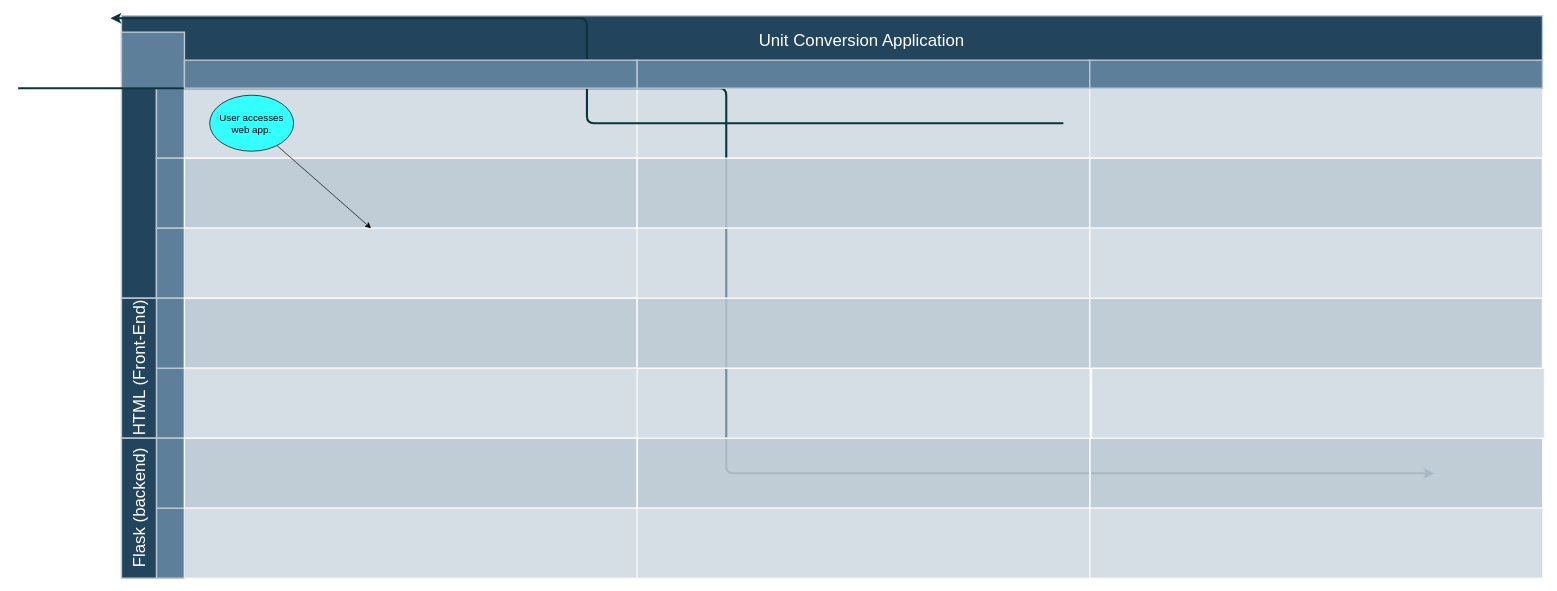
The diagram is 1557 pixels wide and 591 high, and some of its shapes have lost their labels. Each missing label, with the centre of its shape:
User: point (138, 193)
v 1.0: point (152, 60)
